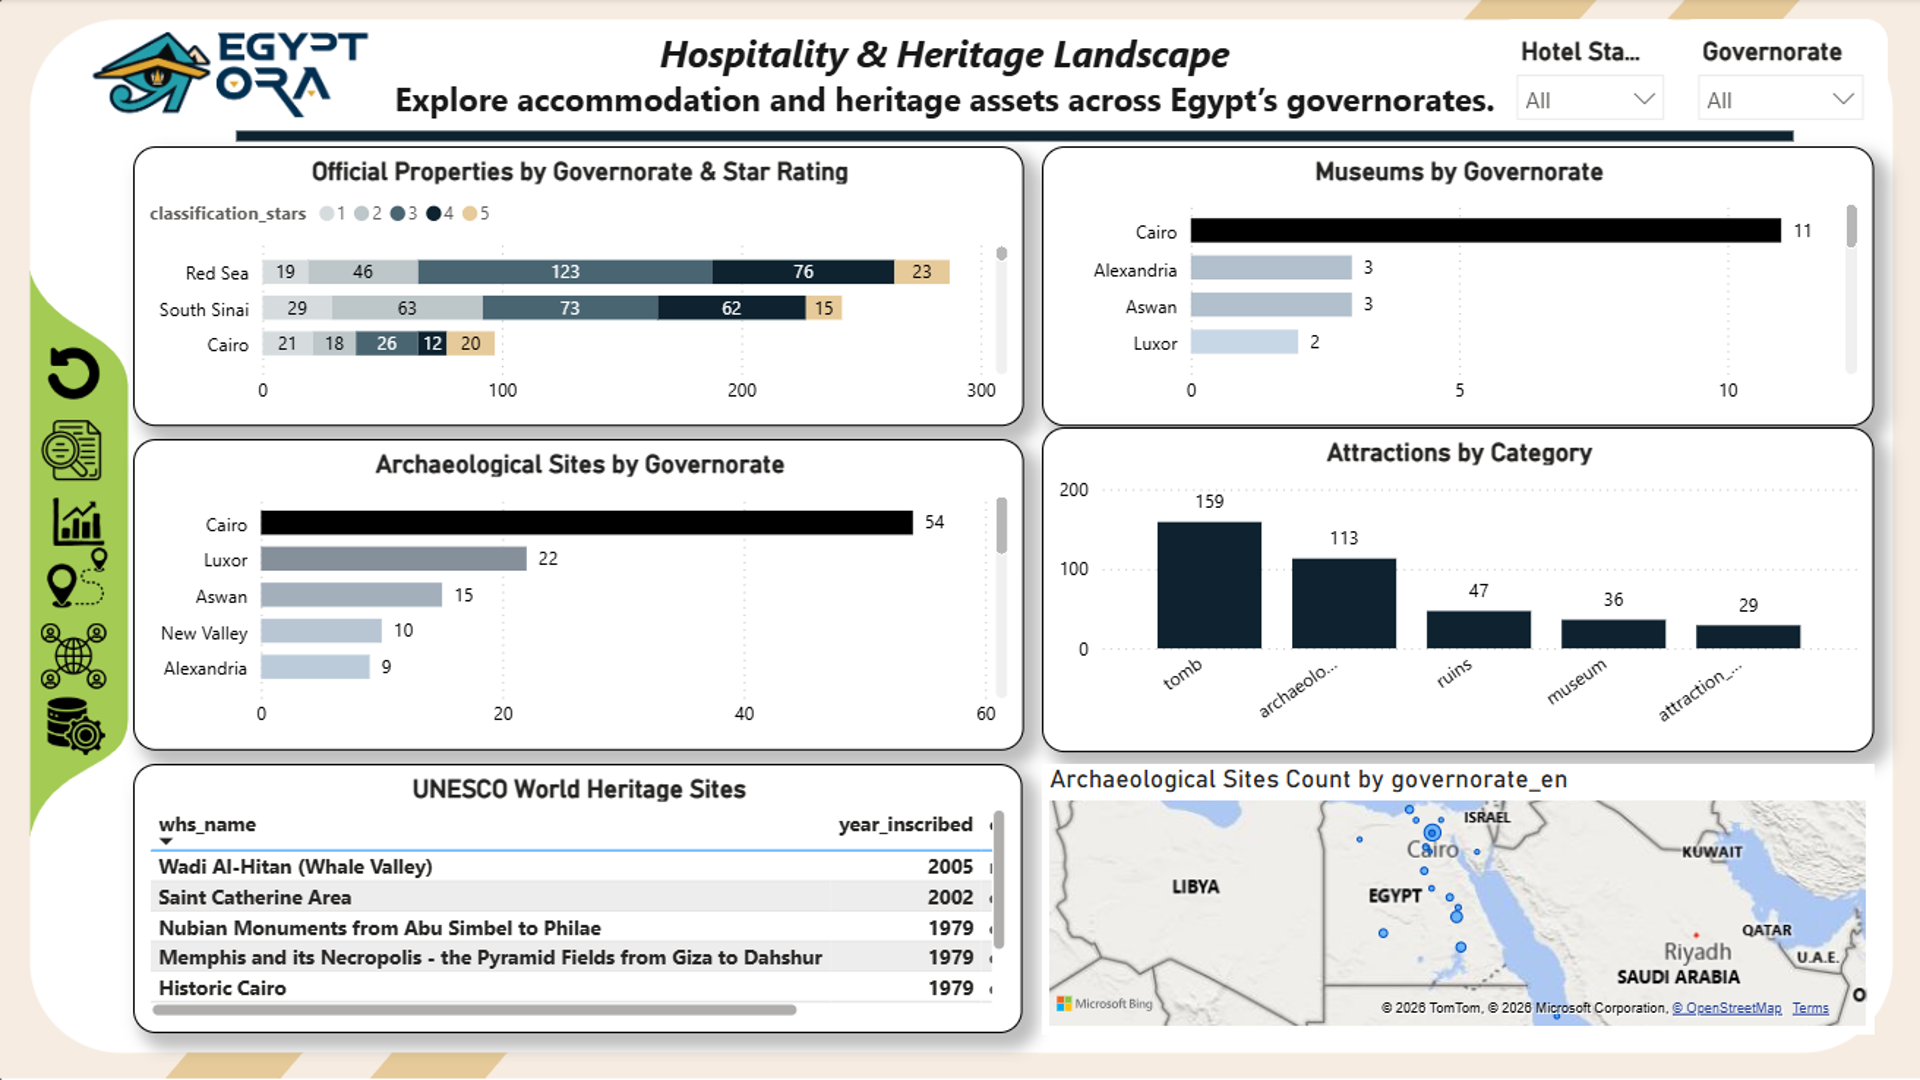

The dashboard page shown, as its layout file describes it:
{"tool":"powerbi","page":{"name":"Accommodation & Heritage","canvas":[1280,720],"ordinal":2},"visuals":[{"type":"slicer","title":"Governorate","fields":{"Values":["Governorates.governorate_en"]},"box":[1113.7,13.6,142,72],"z":0},{"type":"slicer","fields":{"Values":["moto inventory.classification_stars"]},"box":[993.1,13.6,130.3,72],"z":1000},{"type":"barChart","title":"Official Properties by Governorate & Star Rating","fields":{"Category":["moto inventory.governorate_translated"],"Series":["moto inventory.classification_stars"],"Y":["_Key Measures (1).Official Properties Sum"]},"box":[89.1,98.4,592.4,186.4],"z":2000},{"type":"clusteredBarChart","title":"Museums by Governorate","fields":{"Category":["Governorates.governorate_en"],"Y":["_Key Measures (1).Museums Count"]},"box":[693.9,98.4,553,186.4],"z":3000},{"type":"clusteredBarChart","title":"Archaeological Sites by Governorate","fields":{"Category":["Governorates.governorate_en"],"Y":["_Key Measures (1).Archaeological Sites Count"]},"box":[89.1,293.1,592.4,207.1],"z":4000},{"type":"columnChart","title":"Attractions by Category","fields":{"Category":["Attraction Reference.category"],"Y":["CountNonNull(Attraction Reference.attraction_id)"]},"box":[693.5,285,553.4,215.9],"z":5000},{"type":"tableEx","title":"UNESCO World Heritage Sites","fields":{"Values":["UNESCO.whs_name","UNESCO.year_inscribed","UNESCO.category","UNESCO.governorate_en"]},"box":[89.5,508.7,591.4,179],"z":6000},{"type":"map","fields":{"Category":["Governorates.governorate_en"],"Size":["_Key Measures (1).Archaeological Sites Count"]},"box":[693.5,508.7,553.4,179],"z":7000},{"type":"textbox","box":[257.8,14.6,742.1,71],"z":8000},{"type":"image","box":[23.7,275.3,50.1,50.1],"z":9000},{"type":"image","box":[25.5,325.4,55.8,43.5],"z":10000},{"type":"image","box":[22.7,359.5,60.5,50.1],"z":11000},{"type":"image","box":[22.7,409.6,55.8,54.9],"z":12000},{"type":"image","box":[24.6,457.9,55.8,51.1],"z":13000},{"type":"image","box":[14.2,0,273.1,96.7],"z":14000},{"type":"image","box":[16.8,223.4,67.4,51.4],"z":15000}]}

Visuals, with their boxes in screenshot pixels (x1, y1, x2, y2), scaled from the page's 1280x720 canvas onto the 1920x1080 screenshot:
"Governorate" slicer: Rect(1671, 20, 1884, 128)
slicer - moto inventory.classification_stars: Rect(1490, 20, 1685, 128)
"Official Properties by Governorate & Star Rating" barChart: Rect(134, 148, 1022, 427)
"Museums by Governorate" clusteredBarChart: Rect(1041, 148, 1870, 427)
"Archaeological Sites by Governorate" clusteredBarChart: Rect(134, 440, 1022, 750)
"Attractions by Category" columnChart: Rect(1040, 428, 1870, 751)
"UNESCO World Heritage Sites" tableEx: Rect(134, 763, 1021, 1032)
map - Governorates.governorate_en x _Key Measures (1).Archaeological Sites Count: Rect(1040, 763, 1870, 1032)
textbox: Rect(387, 22, 1500, 128)
image: Rect(36, 413, 111, 488)
image: Rect(38, 488, 122, 553)
image: Rect(34, 539, 125, 614)
image: Rect(34, 614, 118, 697)
image: Rect(37, 687, 121, 764)
image: Rect(21, 0, 431, 145)
image: Rect(25, 335, 126, 412)
